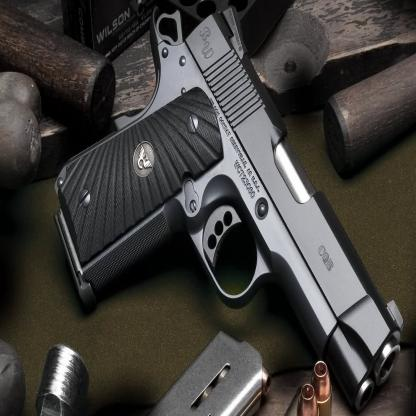handgun: (56, 8, 403, 412)
